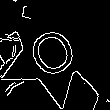O_SE: (21, 20, 83, 85)
